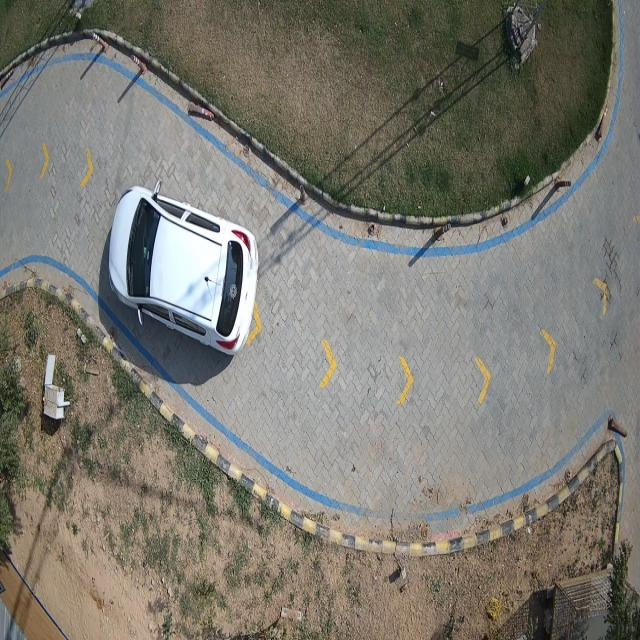car: (109, 182, 259, 353)
